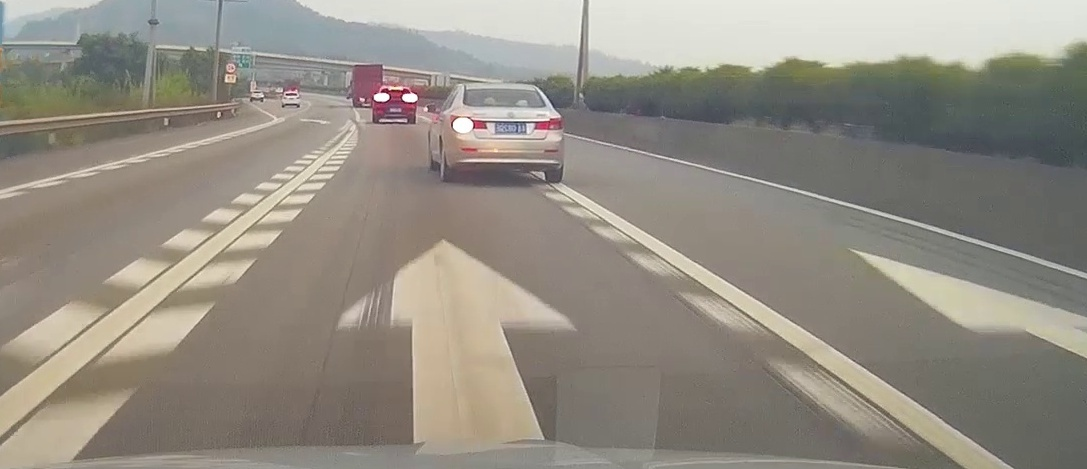L_light: (450, 115, 487, 130), (374, 95, 385, 101)
R_light: (534, 117, 563, 130), (404, 96, 414, 100)
T_light: (390, 86, 402, 90), (499, 88, 509, 90)
day-brake: (372, 85, 417, 124)
day-left: (444, 83, 564, 183)
